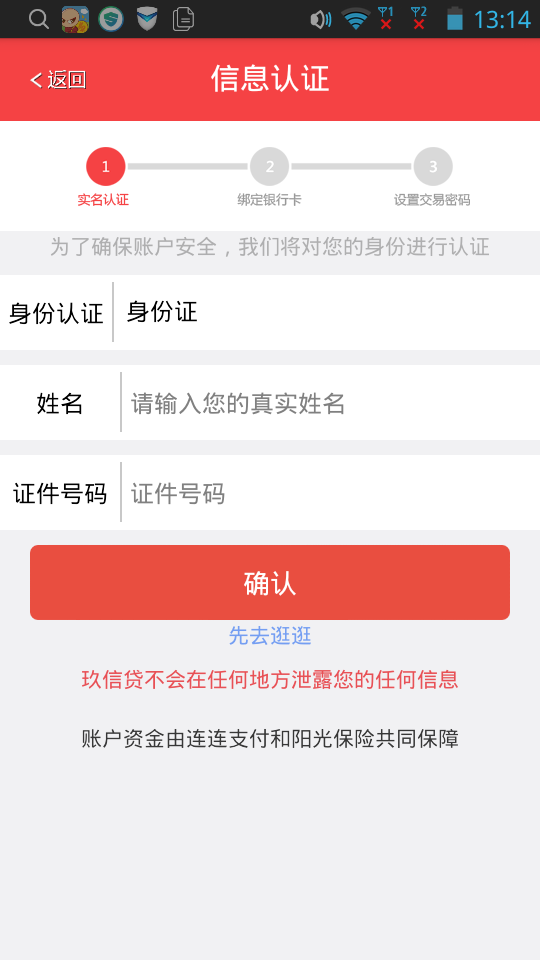textview: (62, 661, 484, 766), (25, 228, 497, 265)
